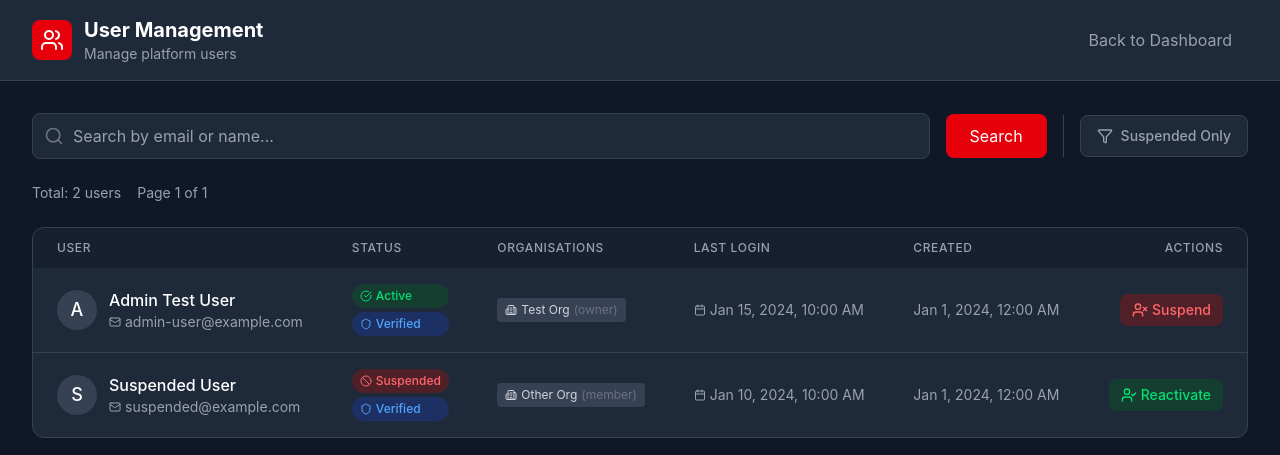
Test case: AdminUsers › search functionality › should filter users when search is submitted
Expected: the text "Admin Test User" is shown, [109, 290, 235, 310]
// Type in search box
In the field with placeholder "Search by email or name...": (481,136) [32, 113, 930, 159], type "suspended"
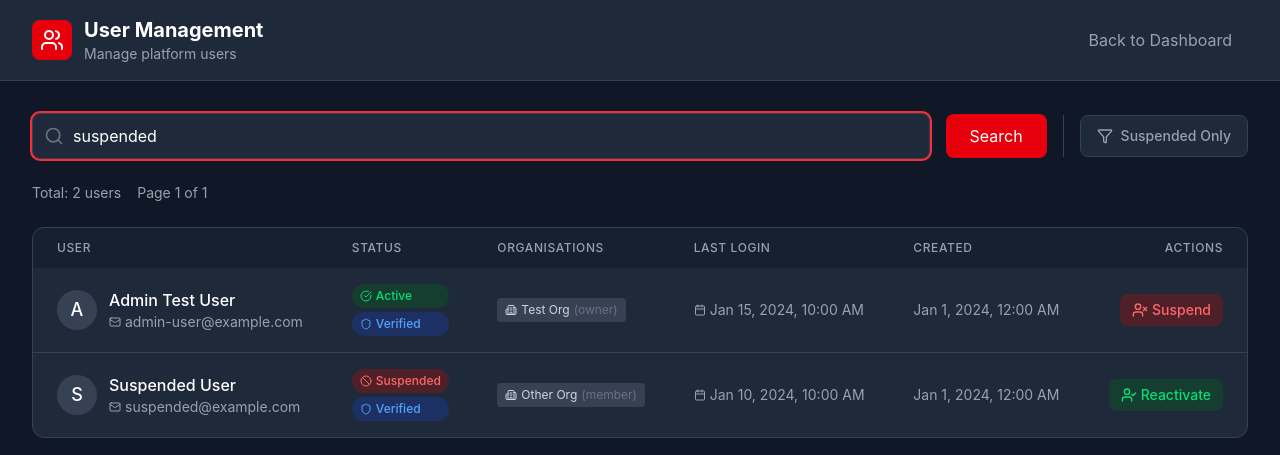
// Submit search
Click the button "Search": (996,136) [946, 114, 1047, 158]
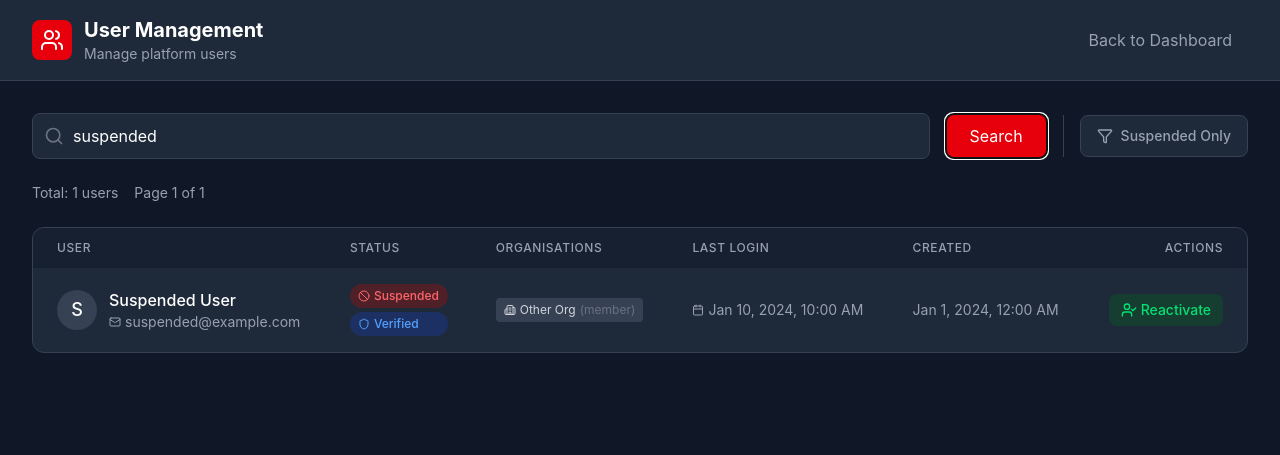
Expected: the text "Suspended User" is shown, [109, 290, 236, 310]
Now the text "Admin Test User" is gone
